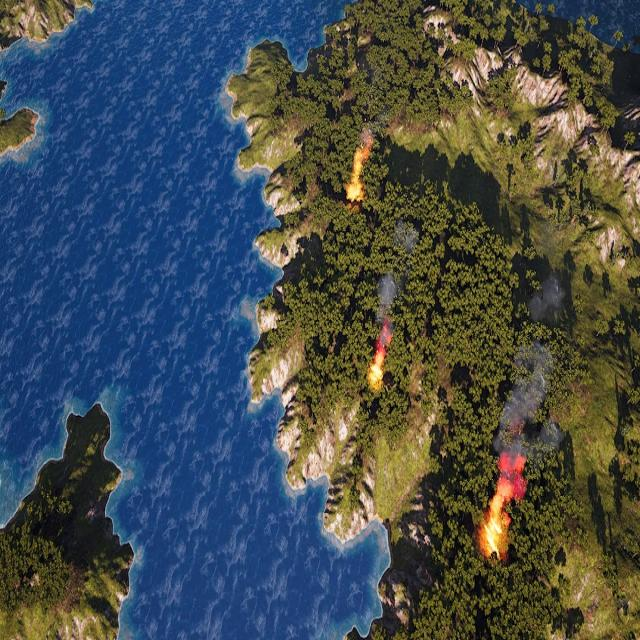fire: (480, 454, 525, 558), (347, 148, 369, 202), (367, 345, 385, 384)
smoke: (489, 270, 573, 464), (371, 218, 415, 353), (374, 274, 399, 350), (359, 127, 373, 151)
